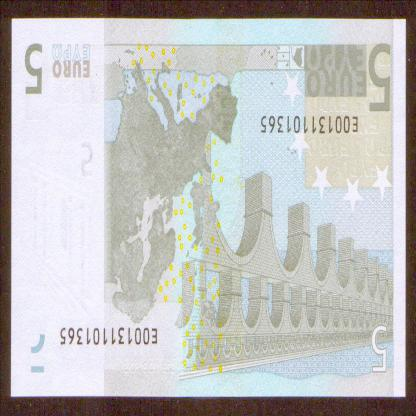euro_banknote: (13, 20, 396, 397)
